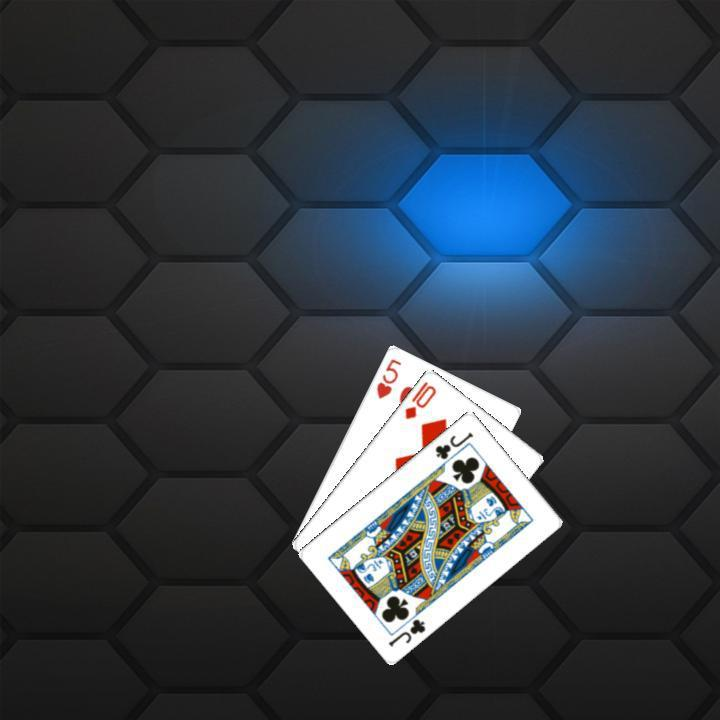10: (400, 376, 438, 421)
5: (372, 354, 404, 400)
J: (430, 427, 475, 461), (384, 614, 428, 648)
